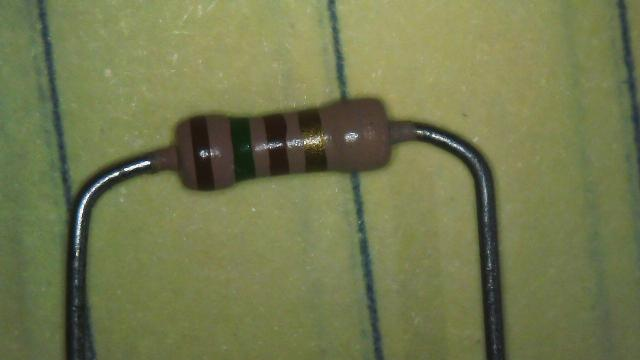brown: (190, 116, 215, 192), (265, 116, 288, 170)
gold: (300, 106, 326, 176)
green: (232, 113, 256, 182)
resistor: (139, 91, 421, 201)
